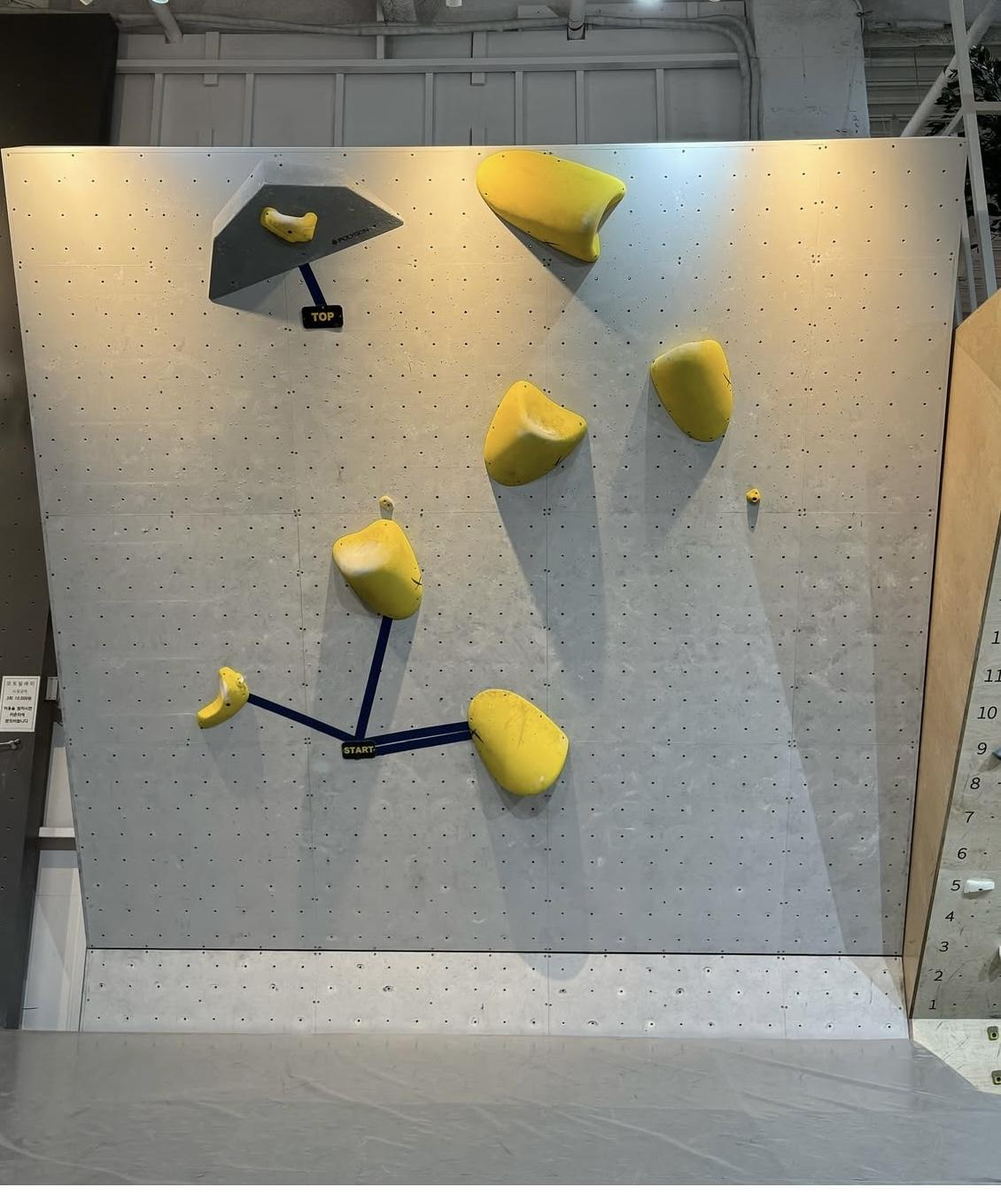hold: (476, 148, 625, 262), (468, 689, 568, 797), (484, 381, 586, 485), (332, 518, 422, 619), (650, 339, 733, 442), (197, 667, 249, 728), (261, 206, 317, 243), (378, 495, 393, 520), (746, 488, 761, 504)
volume: (208, 154, 408, 301)
